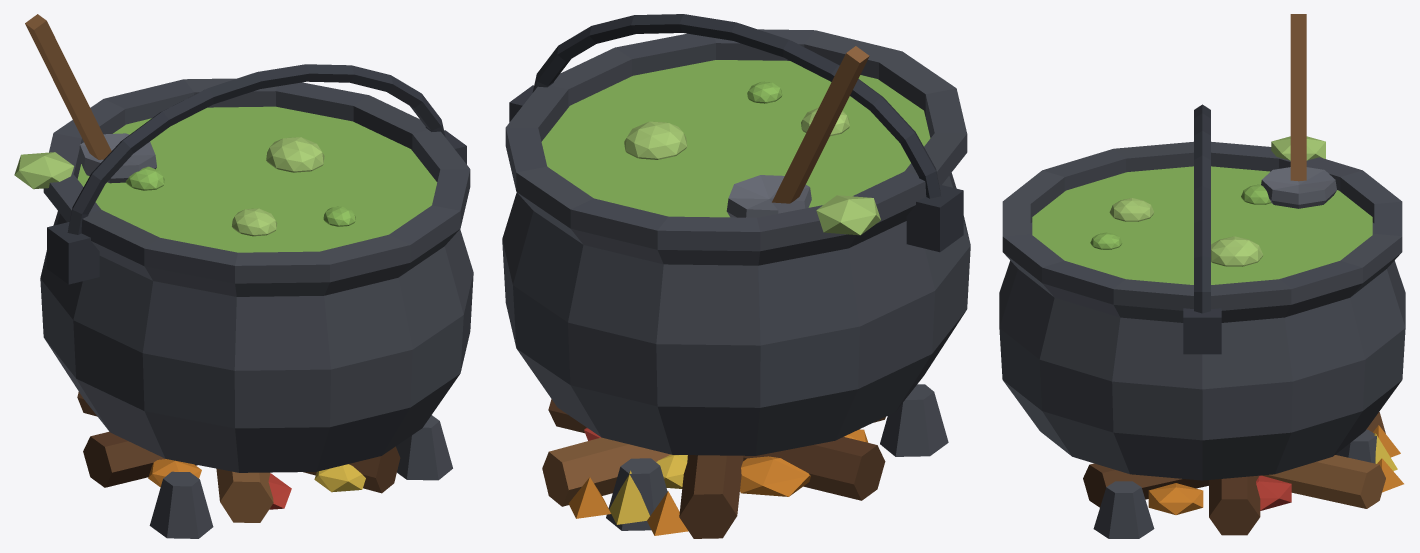
File: Decor_Beanstalk_Cauldron.fbx
3 renders of one model, left to right at view 1: azimuth 30°, elevation 25°; view 2: azimuth 150°, elevation 25°; view 3: azimuth 270°, elevation 25°, orthographic. The views are drawn at different scales.
Parts seen in each view (by area): view 1: Cauldron_Body; view 2: Cauldron_Body; view 3: Cauldron_Body.
Part boxes in pixels (left/top/right/bottom): Cauldron_Body: left=14, top=14, right=473, bottom=538; Cauldron_Body: left=502, top=14, right=970, bottom=538; Cauldron_Body: left=999, top=14, right=1405, bottom=538.
Size of the model in its own units: 14.2 by 15.21 by 14.2.
